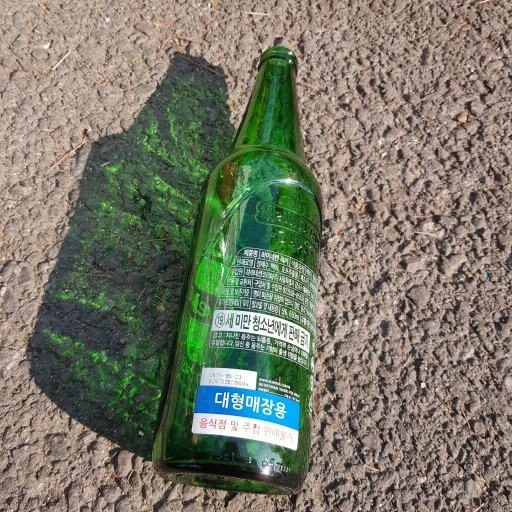Glass_1: (149, 49, 323, 492)
